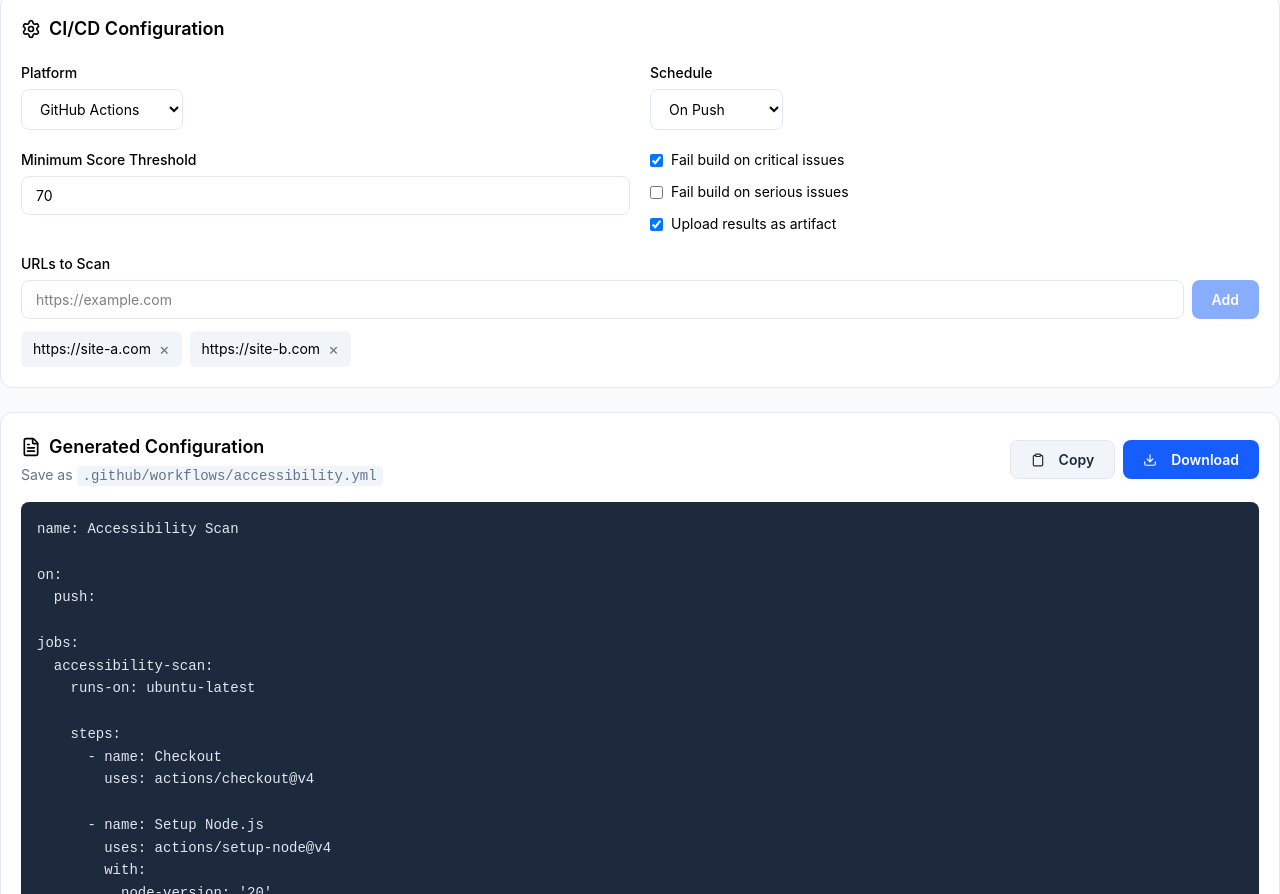
settings/CICDGenerator › generates Harness pipeline config
Step 1. Select "Harness Pipeline" in the dropdown below "Platform" → coordinates (102, 110), box [21, 89, 183, 130]
(page scrolled)
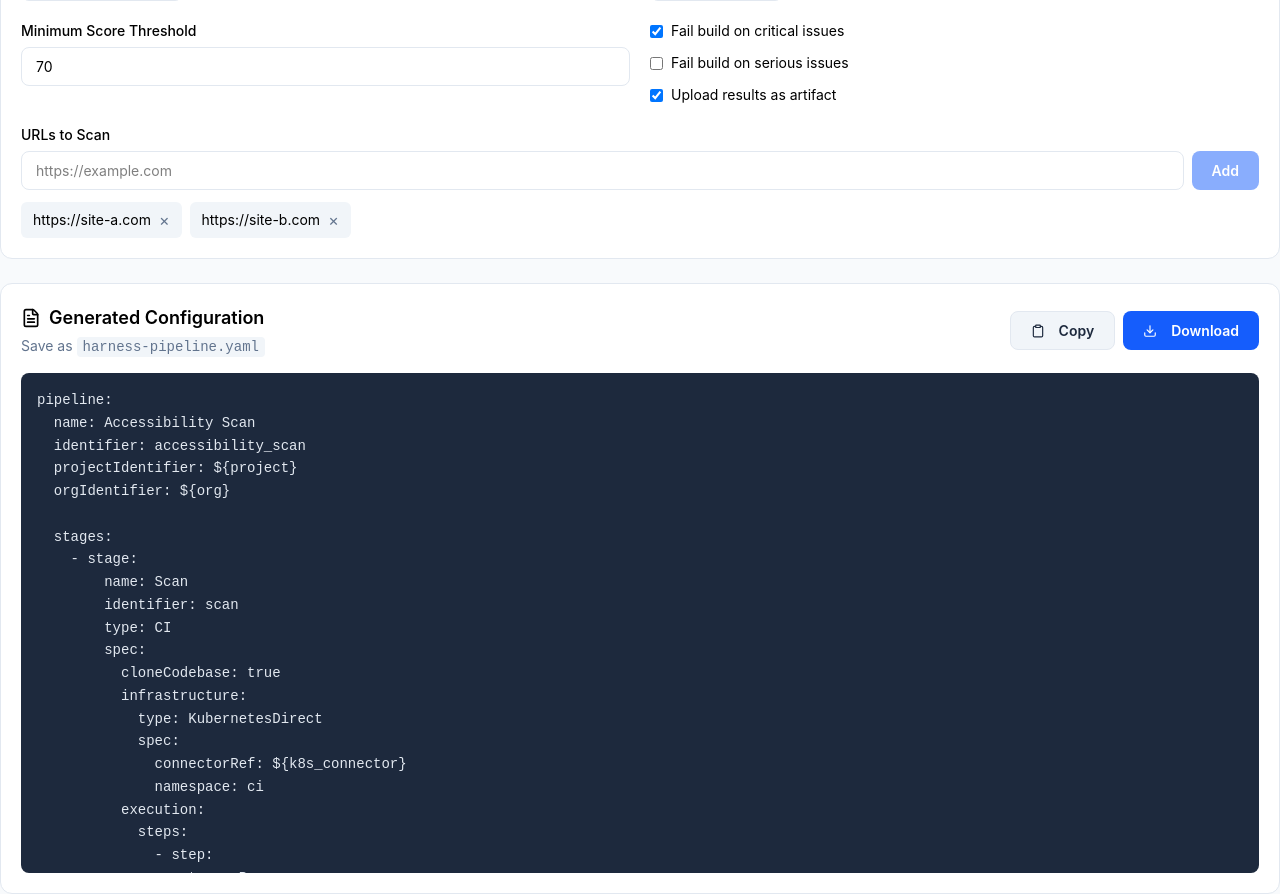
Check: the text "harness-pipeline.yaml" is shown, box [76, 337, 265, 357]
